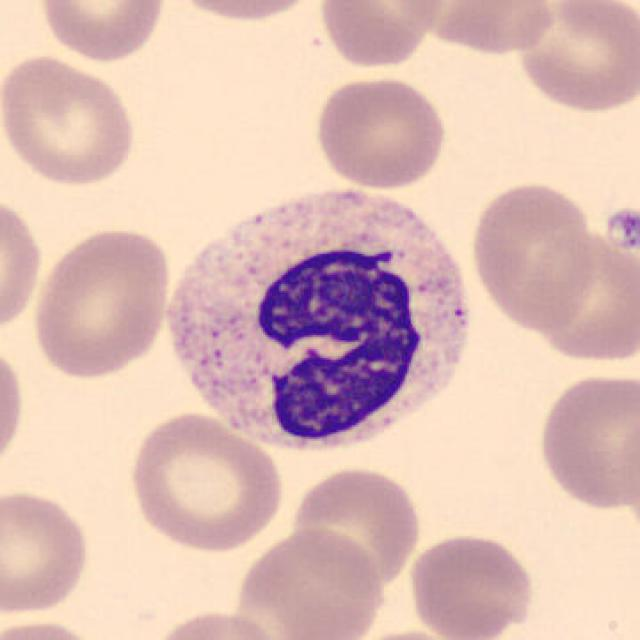Neutrophil: (156, 171, 480, 473)
Platelets: (601, 201, 640, 256)
RBC: (123, 408, 286, 556), (27, 222, 174, 383), (467, 176, 601, 335), (0, 49, 140, 190), (286, 462, 425, 591), (230, 526, 388, 638), (524, 224, 640, 370), (311, 72, 450, 192), (405, 529, 539, 640), (510, 0, 638, 116), (534, 369, 636, 513), (0, 485, 94, 619), (315, 0, 448, 71), (402, 0, 560, 56), (35, 0, 169, 65), (0, 190, 44, 334), (144, 606, 291, 640), (164, 0, 327, 25), (0, 337, 28, 478), (0, 615, 105, 640)
